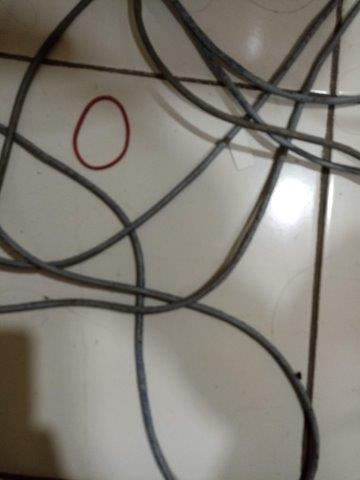karet: (72, 95, 131, 171)
